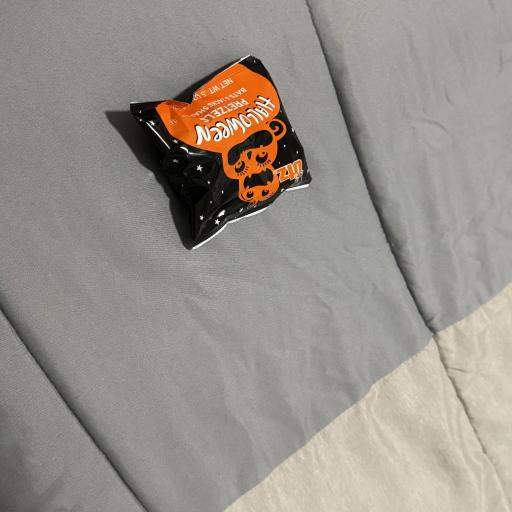chocolate: (131, 56, 311, 248)
